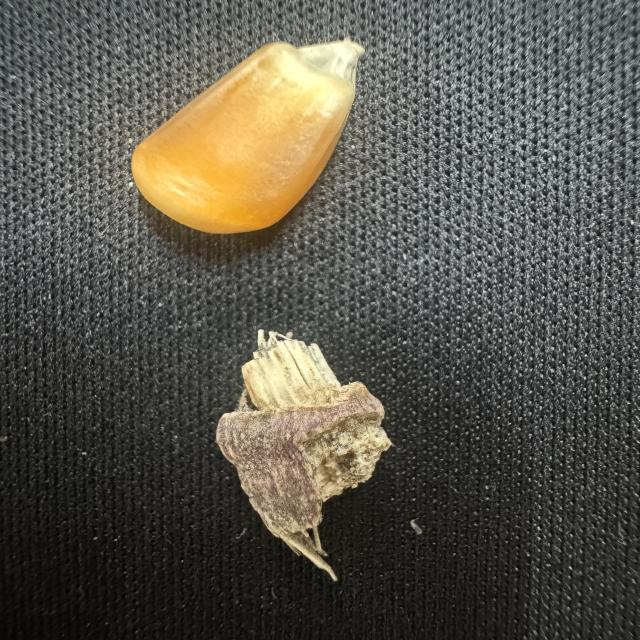Bad-Seed: (199, 313, 406, 589)
Good-Seed: (123, 34, 374, 236)
